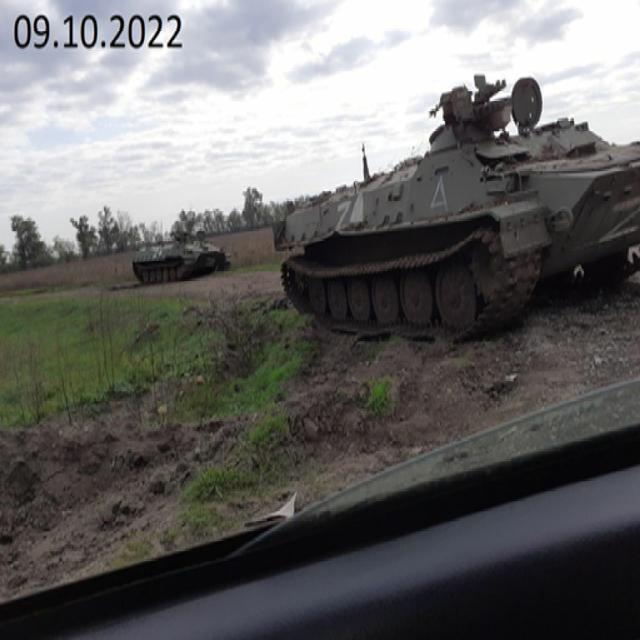APC-IFV: (269, 96, 639, 340), (126, 216, 232, 291)
